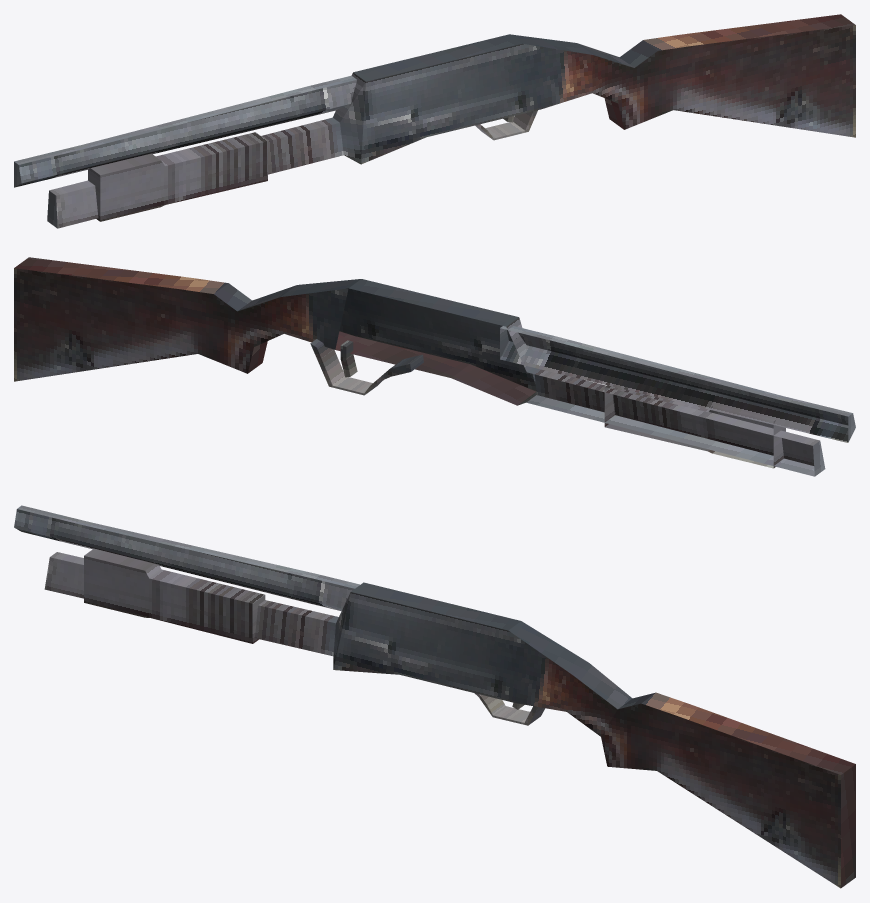
The model's file is shotgun.glb.
3 views of the same model, one above another, from view 1: azimuth 30°, elevation 25°; view 2: azimuth 150°, elevation 25°; view 3: azimuth 330°, elevation 25° (orthographic).
Parts seen in each view (by area): view 1: Cube; view 2: Cube; view 3: Cube.
Part boxes in pixels (x1,y1,x2,y2): Cube: (14, 14, 855, 228); Cube: (14, 257, 855, 476); Cube: (14, 505, 855, 888).
Bounding box in the file's own units: 4.66 × 0.9352 × 0.2474.
1 material, 1 textured.
